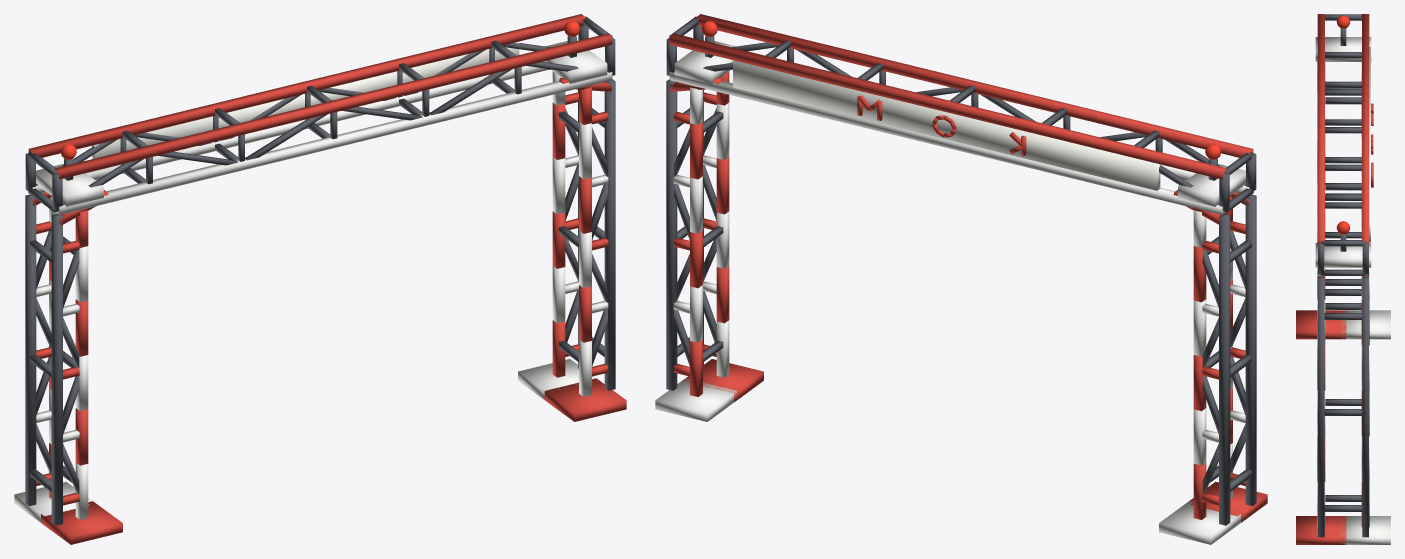
The model's file is prop_arch.gltf.
3 renders of one model, left to right at view 1: azimuth 30°, elevation 25°; view 2: azimuth 150°, elevation 25°; view 3: azimuth 270°, elevation 25°, orthographic. The views are drawn at different scales.
Parts seen in each view (by area): view 1: RaceArch; view 2: RaceArch; view 3: RaceArch.
Part boxes in pixels (x1,y1,x2,y2): RaceArch: (14,14,626,544); RaceArch: (655,14,1267,544); RaceArch: (1296,14,1390,544).
Bounding box in the file's own units: 10.23 × 6.52 × 1.79.
